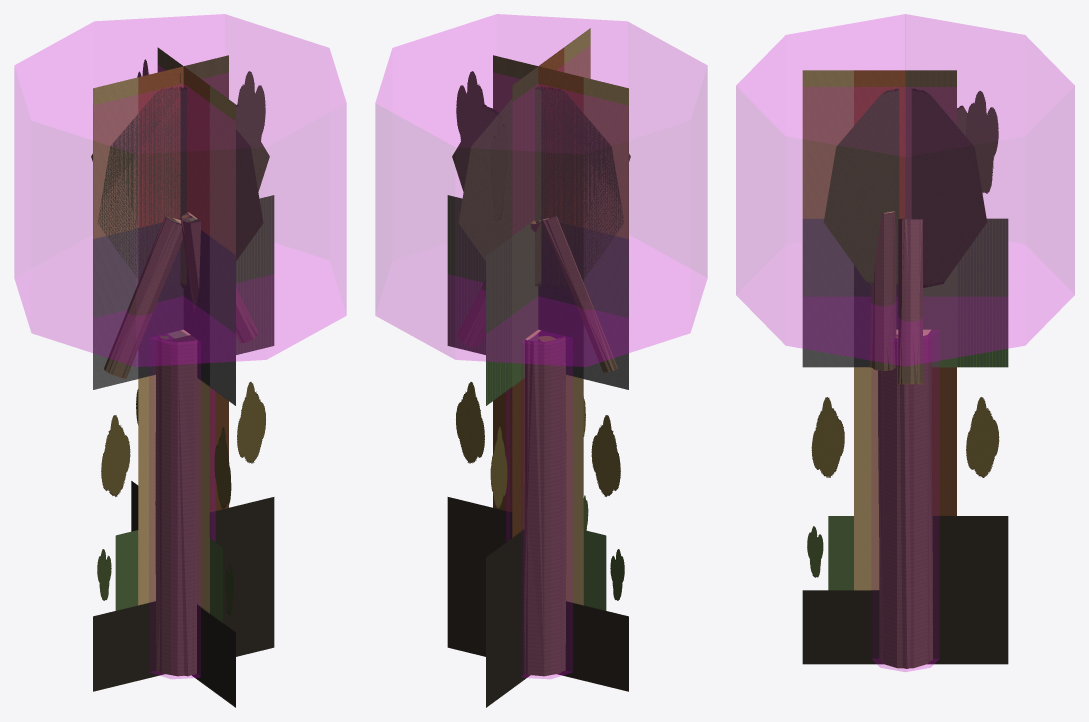
The model's file is mesquite_small.dae.
The picture shows the model from 3 angles, left to right: view 1: azimuth 30°, elevation 25°; view 2: azimuth 150°, elevation 25°; view 3: azimuth 270°, elevation 25°; orthographic projection.
Parts seen in each view (by area): view 1: Colmesh_canopy-1, mesquite_small_a50, mesquite_small_a800, Colmesh_trunk-1, mesquite_small_a200; view 2: Colmesh_canopy-1, mesquite_small_a50, mesquite_small_a800, Colmesh_trunk-1, mesquite_small_a200; view 3: Colmesh_canopy-1, mesquite_small_a50, mesquite_small_a800, mesquite_small_a200, Colmesh_trunk-1.
Part boxes in pixels (x1=…): Colmesh_canopy-1: x1=14, y1=14, x2=346, y2=366; mesquite_small_a50: x1=93, y1=47, x2=274, y2=707; mesquite_small_a800: x1=91, y1=86, x2=269, y2=676; Colmesh_trunk-1: x1=149, y1=364, x2=215, y2=678; mesquite_small_a200: x1=91, y1=73, x2=269, y2=676; Colmesh_canopy-1: x1=375, y1=14, x2=707, y2=366; mesquite_small_a50: x1=447, y1=28, x2=628, y2=707; mesquite_small_a800: x1=452, y1=86, x2=630, y2=676; Colmesh_trunk-1: x1=506, y1=364, x2=572, y2=678; mesquite_small_a200: x1=452, y1=88, x2=629, y2=673; Colmesh_canopy-1: x1=736, y1=14, x2=1074, y2=366; mesquite_small_a50: x1=802, y1=70, x2=1008, y2=664; mesquite_small_a800: x1=824, y1=88, x2=987, y2=668; mesquite_small_a200: x1=824, y1=89, x2=986, y2=668; Colmesh_trunk-1: x1=872, y1=361, x2=938, y2=671.
Size of the model in its own units: 1.54 by 1.54 by 2.98.
3 materials, 2 textured.
